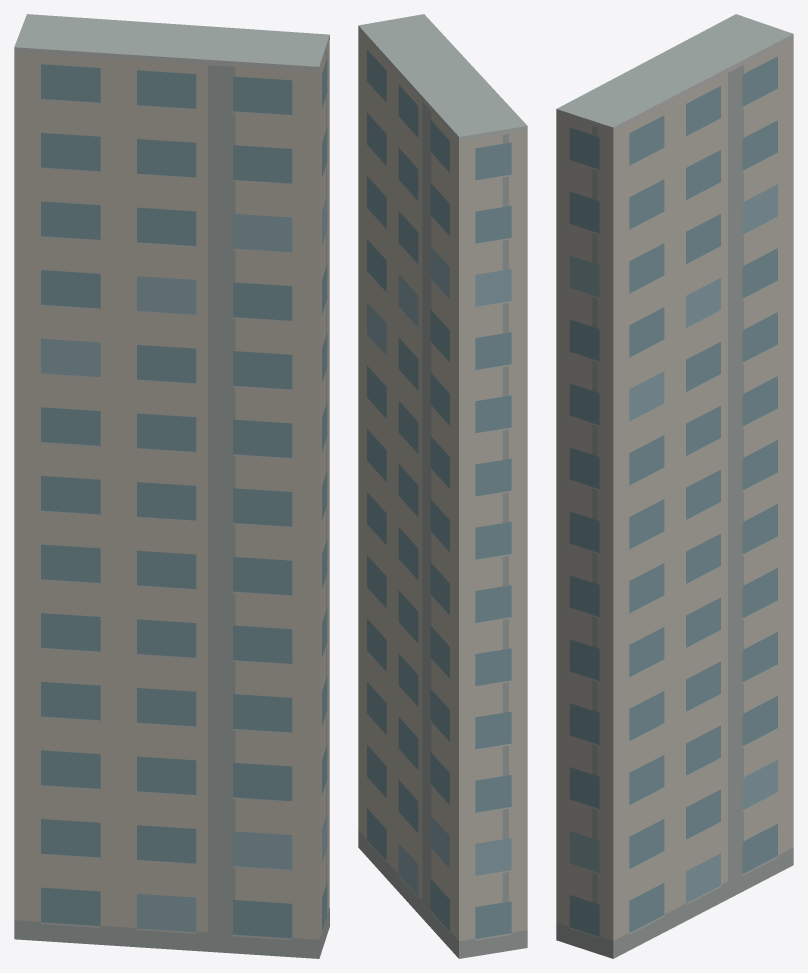
The model's file is survey-upis-32840821.glb.
The picture shows the model from 3 angles, left to right: view 1: azimuth 30°, elevation 25°; view 2: azimuth 150°, elevation 25°; view 3: azimuth 270°, elevation 25°; orthographic projection. The views are drawn at different scales.
Parts seen in each view (by area): view 1: survey-upis-32840821.tmp; view 2: survey-upis-32840821.tmp; view 3: survey-upis-32840821.tmp.
Part boxes in pixels (x1,y1,x2,y2): survey-upis-32840821.tmp: [14, 14, 329, 958]; survey-upis-32840821.tmp: [358, 14, 527, 958]; survey-upis-32840821.tmp: [556, 14, 793, 958].
Size of the model in its own units: 11.62 by 39.65 by 10.26.
